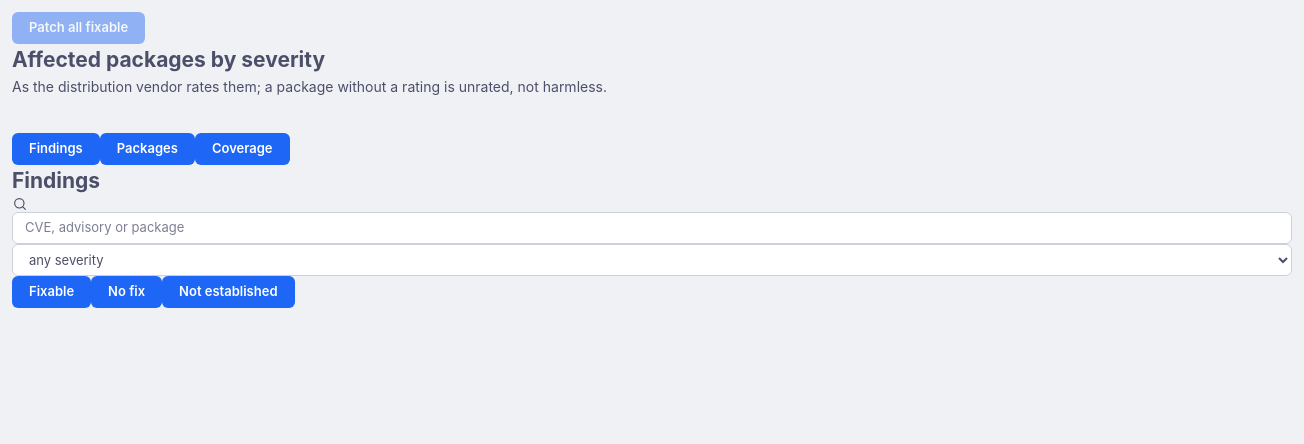
Test case: what the vendor says about this host › names the reason a finding could not be decided, in words
Click the button "Not established" at (228, 292), box [162,276,294,308]
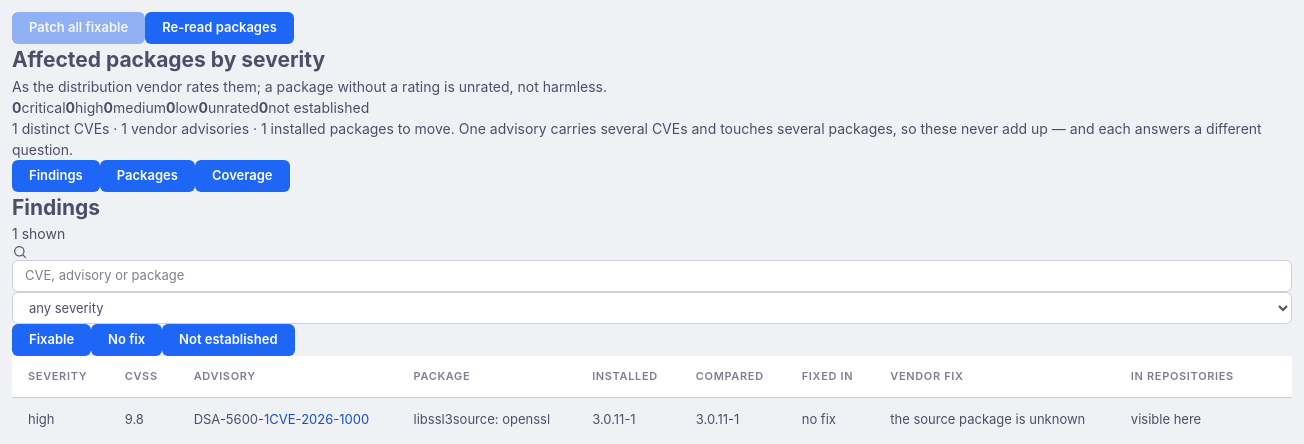
Now the text "the source package is unknown" is shown, box [890,410,1085,426]
